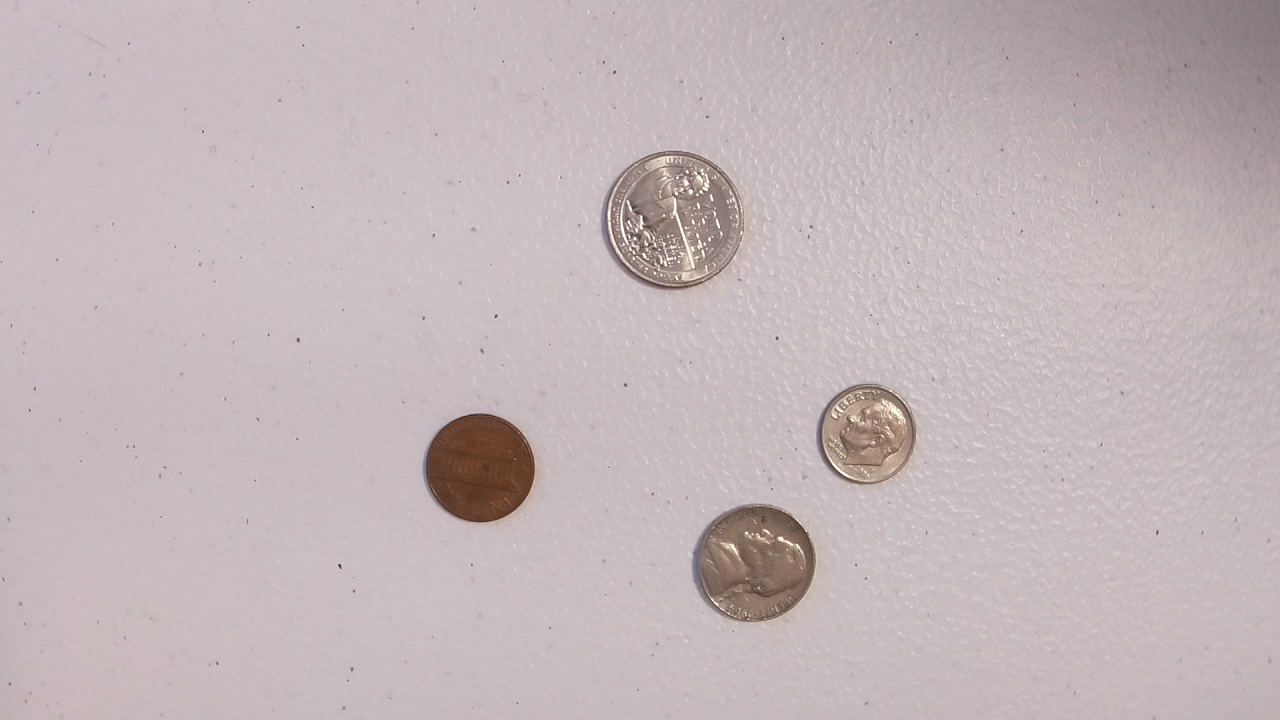dime: (818, 381, 918, 487)
nickel: (688, 499, 822, 627)
penny: (421, 412, 541, 524)
quarter: (602, 145, 746, 295)
